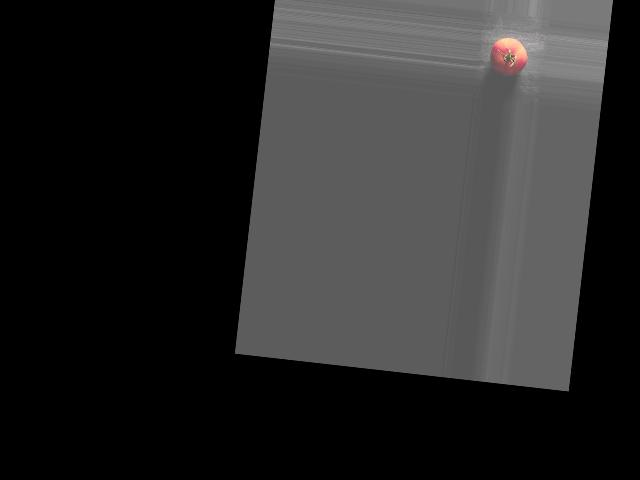tomato: (488, 36, 529, 77)
